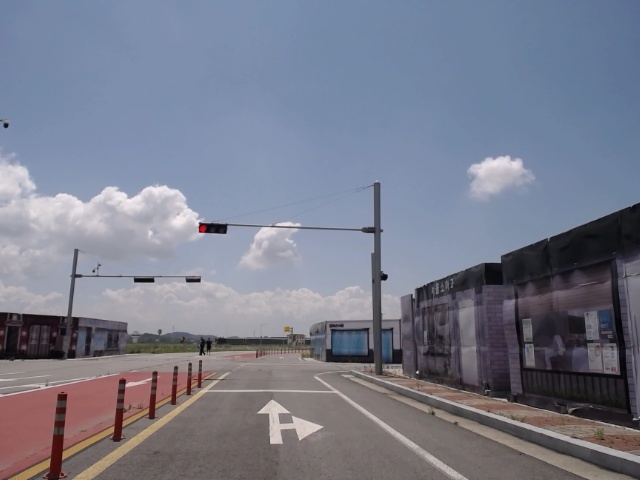red_3: (198, 223, 228, 234)
